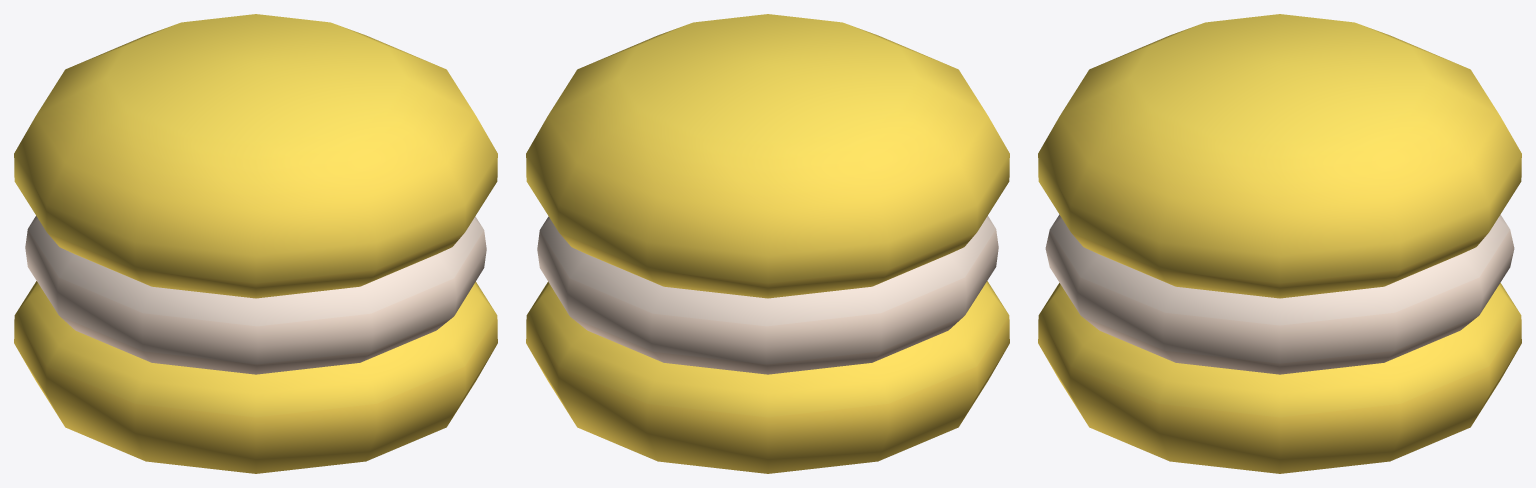
Rendered from macaron-yellow.glb.
3 views of the same model, side by side, from view 1: azimuth 30°, elevation 25°; view 2: azimuth 150°, elevation 25°; view 3: azimuth 270°, elevation 25° (orthographic).
Parts seen in each view (by area): view 1: macaron_yellow; view 2: macaron_yellow; view 3: macaron_yellow.
Part boxes in pixels (bbox=[...]): macaron_yellow: bbox=[14, 14, 497, 473]; macaron_yellow: bbox=[526, 14, 1009, 473]; macaron_yellow: bbox=[1038, 14, 1521, 473].
Size of the model in its own units: 0.25 by 0.2 by 0.25.
1 material, 1 textured.
